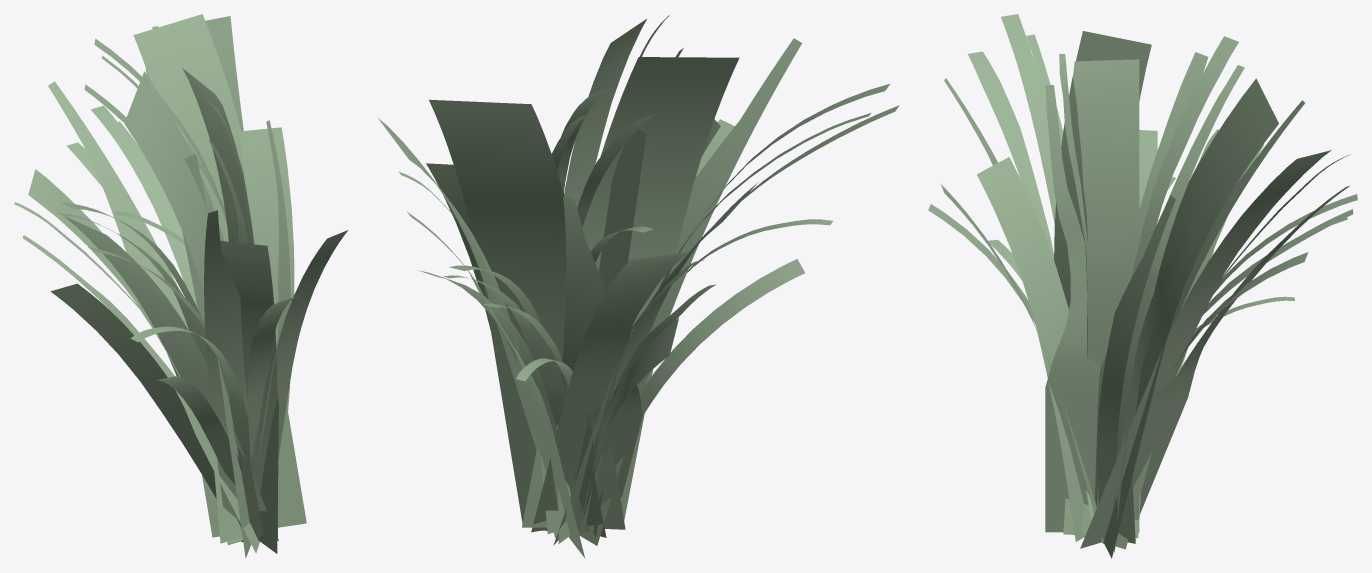
The model's file is SM_ocean_eelGrass_01.fbx.
The picture shows the model from 3 angles, left to right: view 1: azimuth 30°, elevation 25°; view 2: azimuth 150°, elevation 25°; view 3: azimuth 270°, elevation 25°; orthographic projection. The views are drawn at different scales.
Parts seen in each view (by area): view 1: SM_ocean_eelGrass_01_LOD0; view 2: SM_ocean_eelGrass_01_LOD0; view 3: SM_ocean_eelGrass_01_LOD0.
Part boxes in pixels (x1,y1,x2,y2): SM_ocean_eelGrass_01_LOD0: (14, 14, 348, 558); SM_ocean_eelGrass_01_LOD0: (377, 15, 899, 558); SM_ocean_eelGrass_01_LOD0: (928, 14, 1357, 558).
Size of what is drawn, in the model's own units: 117 by 141 by 168.
